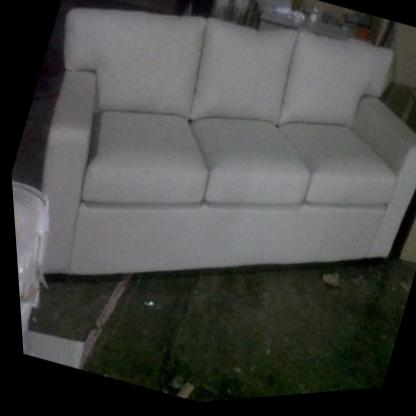Sofa: (0, 0, 416, 393)
